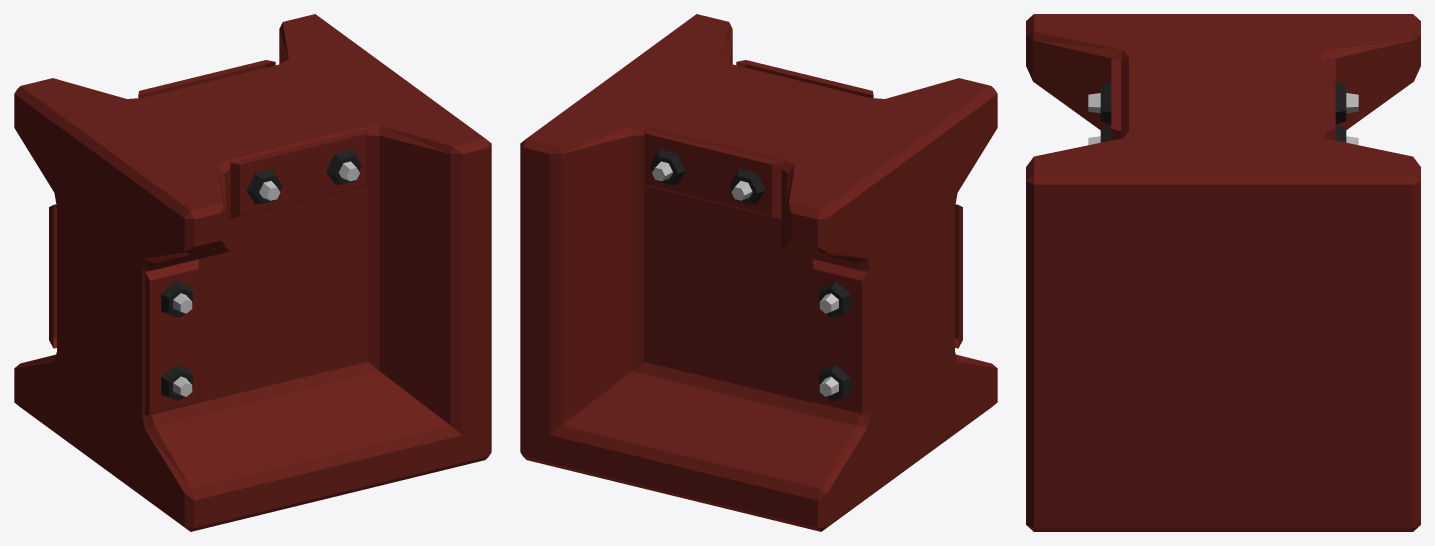
Rendered from sm_steelbeam_angle.fbx.
3 renders of one model, left to right at view 1: azimuth 30°, elevation 25°; view 2: azimuth 150°, elevation 25°; view 3: azimuth 270°, elevation 25°, orthographic. The views are drawn at different scales.
Visible parts, largest first — view 1: steelbeam_angle; view 2: steelbeam_angle; view 3: steelbeam_angle.
Part boxes in pixels (x1,y1,x2,y2): steelbeam_angle: (14, 14, 491, 531); steelbeam_angle: (520, 14, 997, 531); steelbeam_angle: (1026, 14, 1420, 531).
Size of the model in its own units: 100 by 100 by 100.
